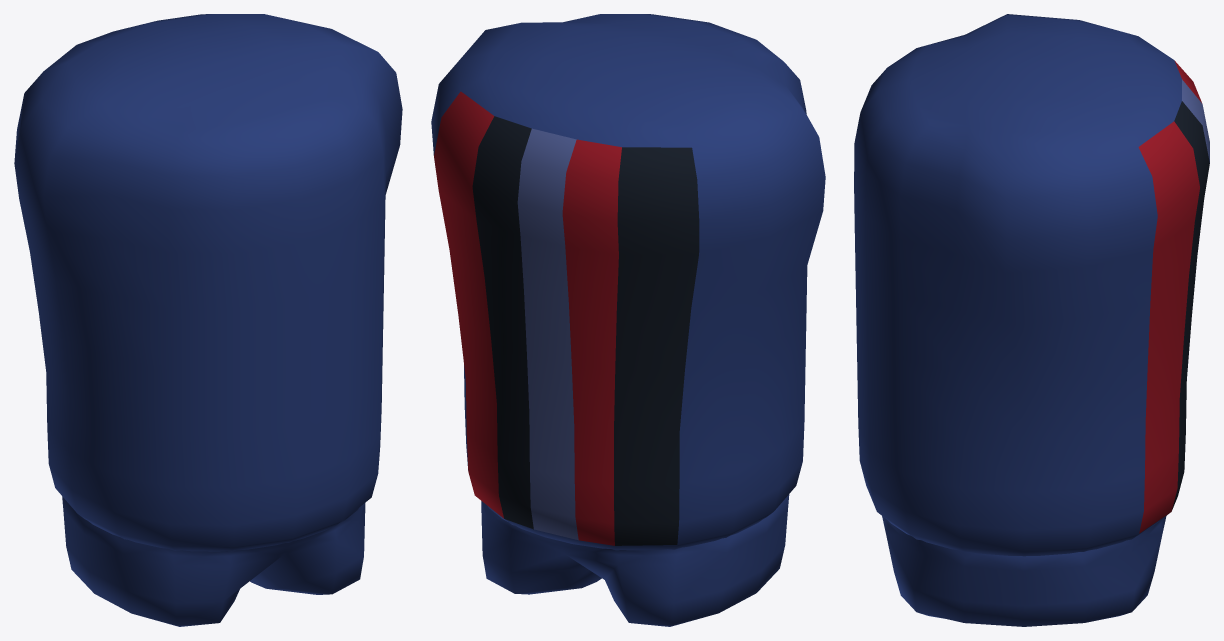
Rendered from Ousmane_body.glb.
3 views of the same model, side by side, from view 1: azimuth 30°, elevation 25°; view 2: azimuth 150°, elevation 25°; view 3: azimuth 270°, elevation 25° (orthographic).
Parts seen in each view (by area): view 1: Messi_body; view 2: Messi_body; view 3: Messi_body.
Boxes of the visible parts, bbox=[...] form: Messi_body: bbox=[14, 14, 402, 626]; Messi_body: bbox=[431, 14, 825, 626]; Messi_body: bbox=[854, 14, 1209, 626].
Bounding box in the file's own units: 2.22 × 3.08 × 1.9.
